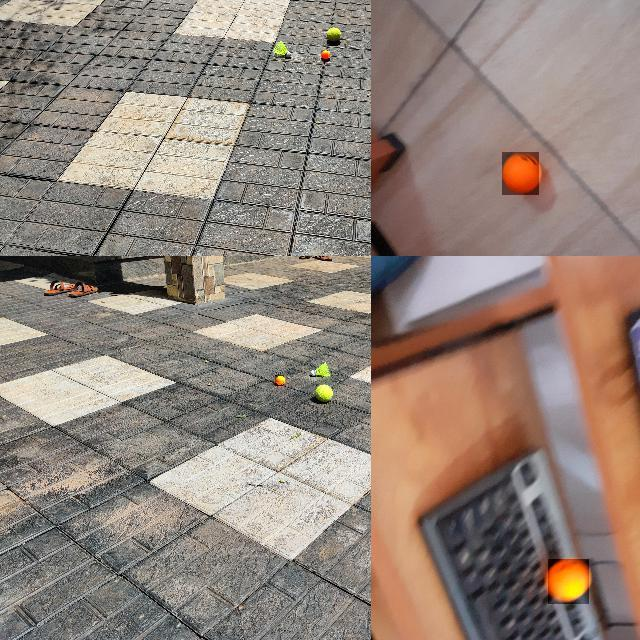ping-pong-ball: (548, 559, 590, 605), (502, 152, 540, 196), (320, 50, 330, 60), (275, 375, 285, 383)
